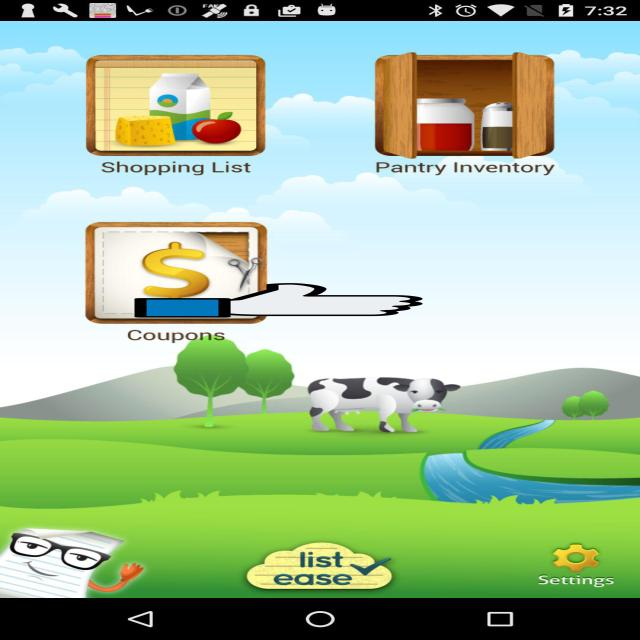privacy zuckering: (134, 282, 422, 318)
